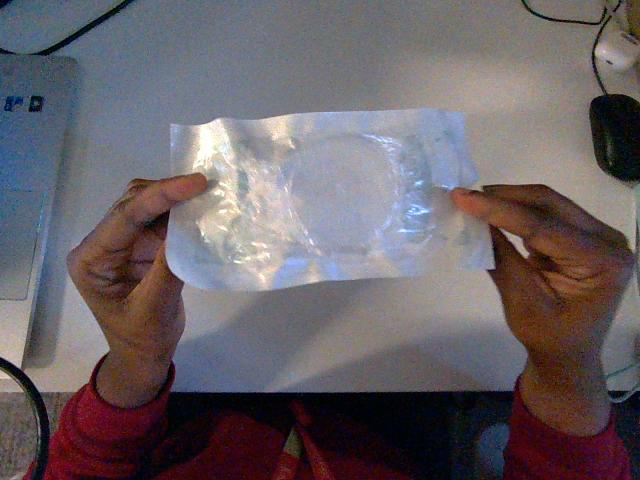gallipot: (167, 109, 492, 290)
